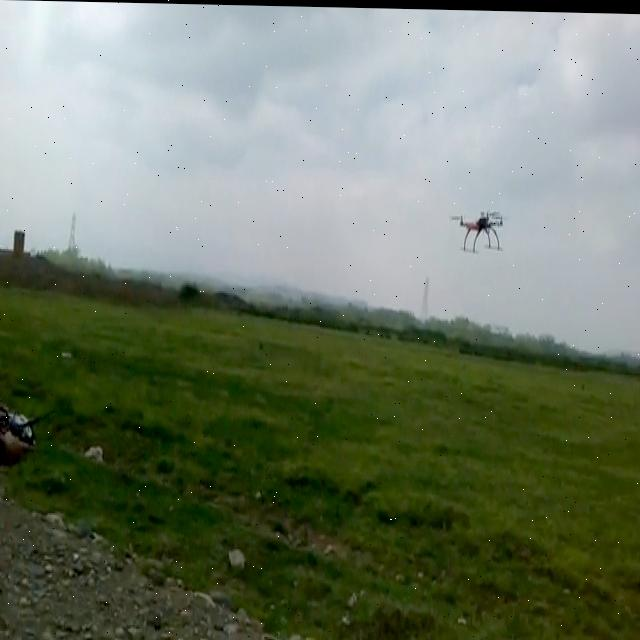drone: (448, 200, 507, 256)
